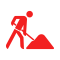CONSTRUCTION: (5, 7, 60, 56)
